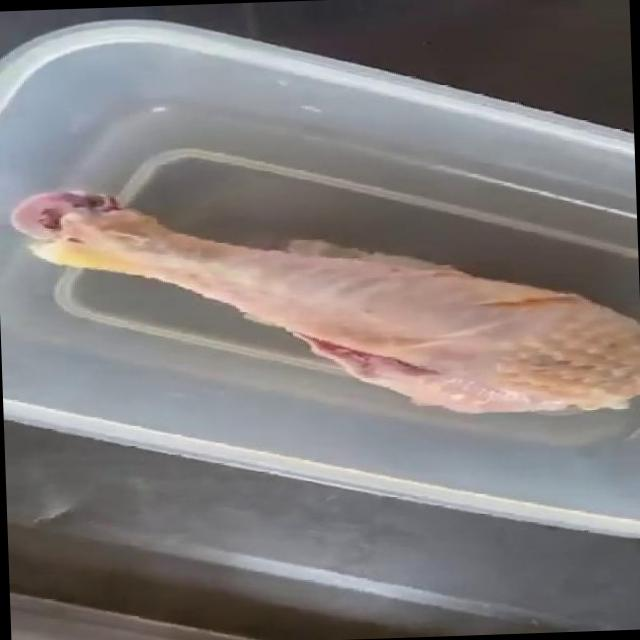chicken: (0, 175, 640, 437)
